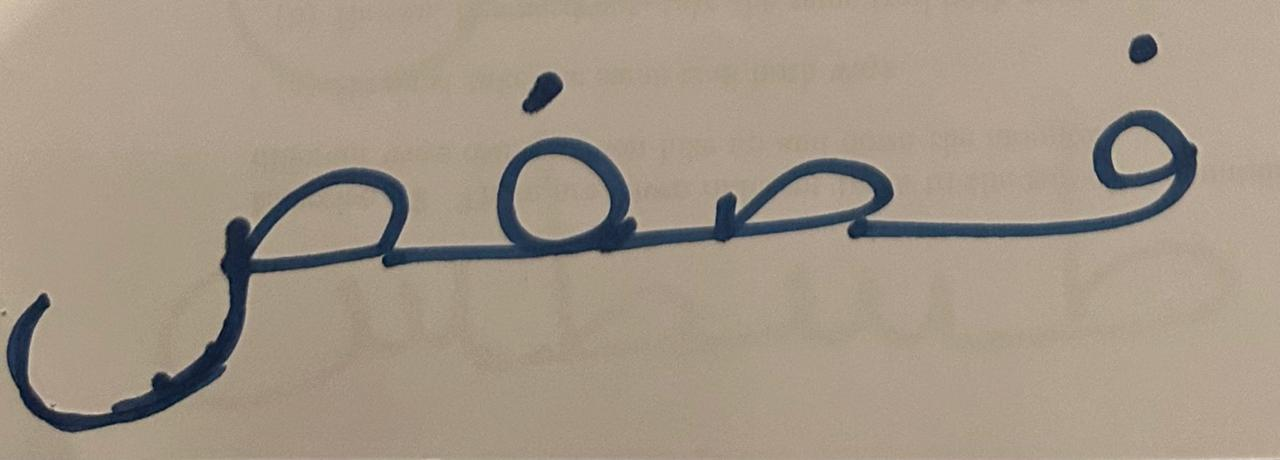feh: (942, 10, 1244, 290), (433, 30, 659, 342)
seen: (4, 68, 429, 449), (662, 19, 937, 330)
